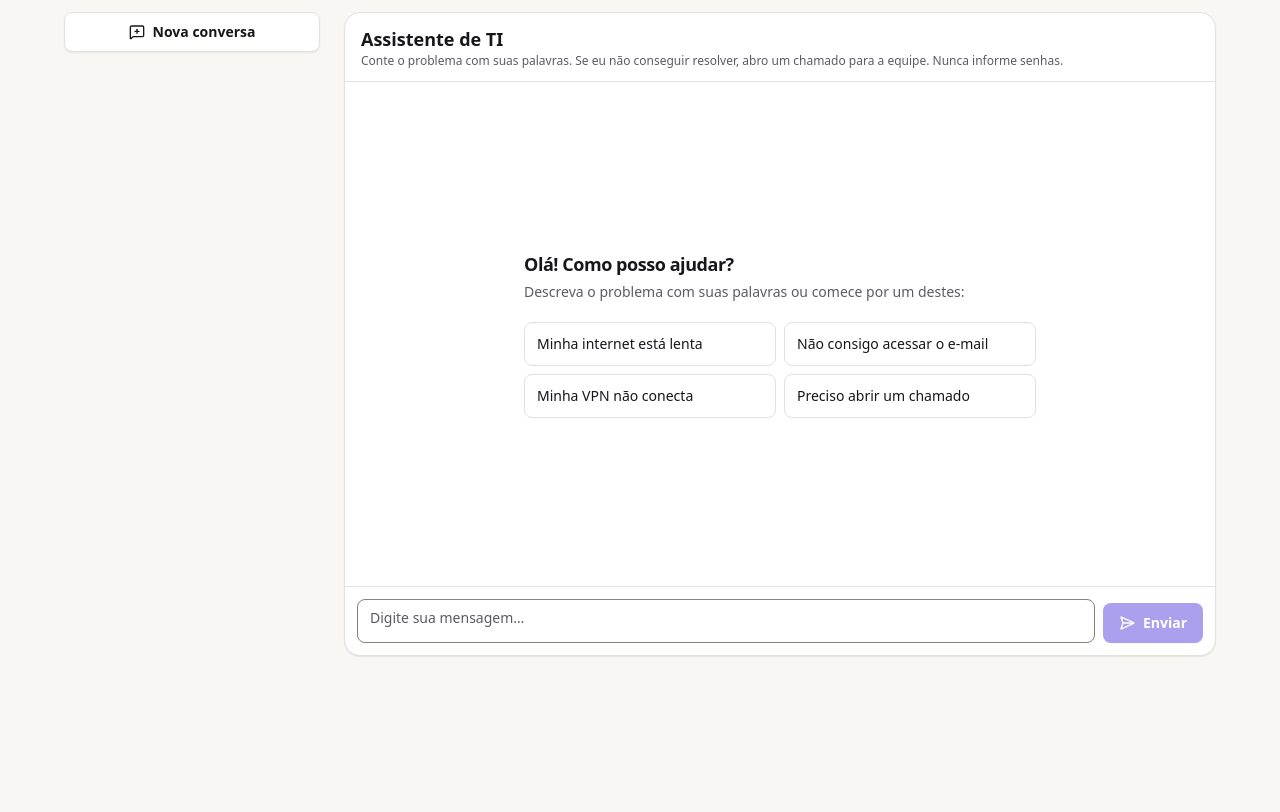
Test: ChatPage › mostra a saudação e responde a um exemplo citando a fonte
Expected: the text "Olá! Como posso ajudar?" is shown, left=524, top=252, right=734, bottom=276
Click the button "Minha VPN não conecta": {"x": 650, "y": 396} left=524, top=374, right=776, bottom=418
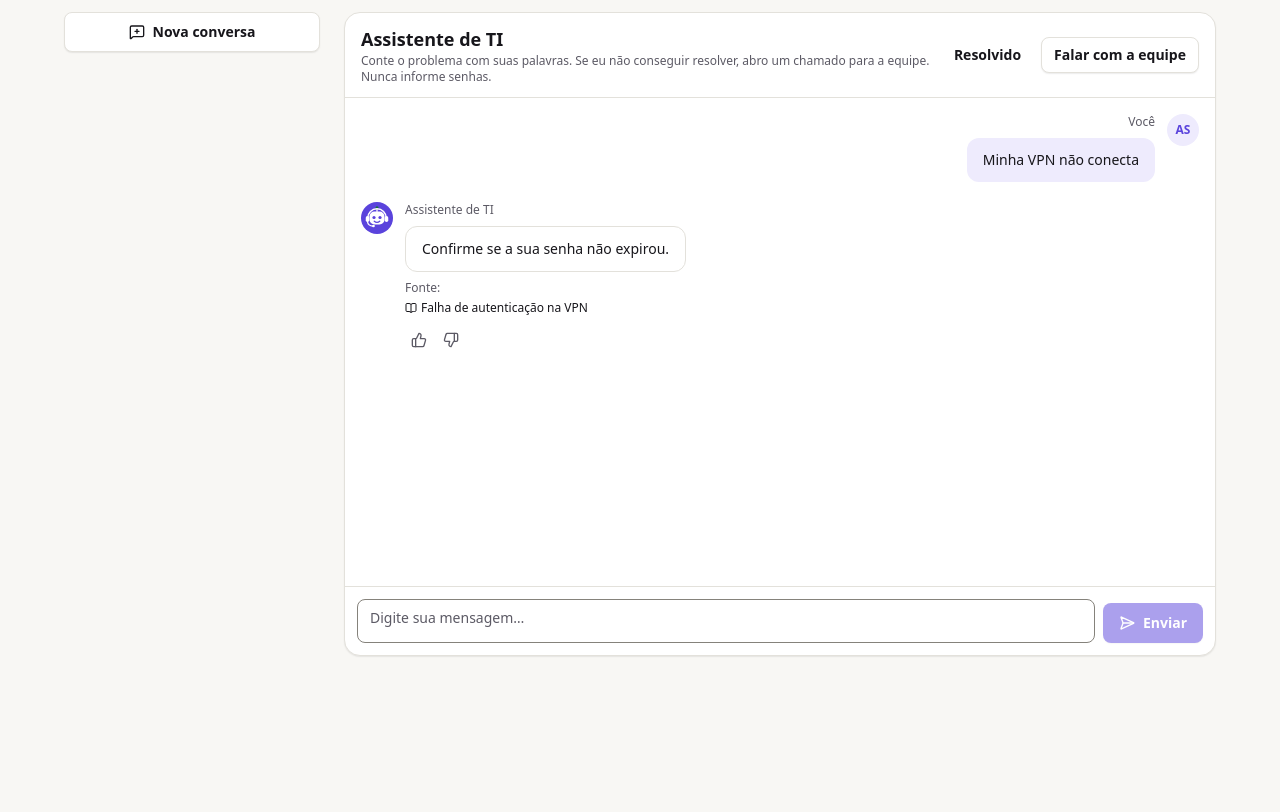
Expected: the text "Confirme se a sua senha não expirou." is shown, left=405, top=226, right=686, bottom=272
